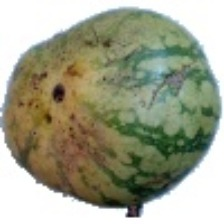watermelon: (21, 15, 167, 212)
